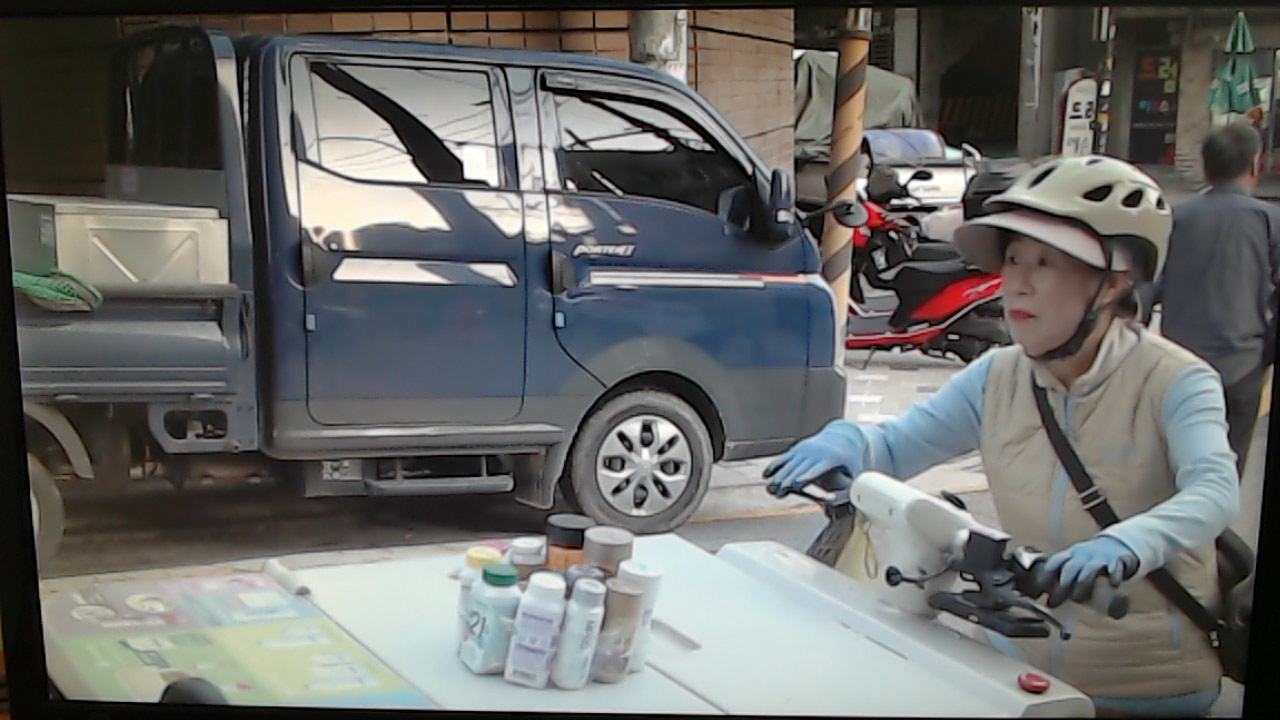Yakurut: (756, 162, 1277, 710)
